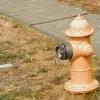a fire hydrant: (59, 11, 97, 99)
